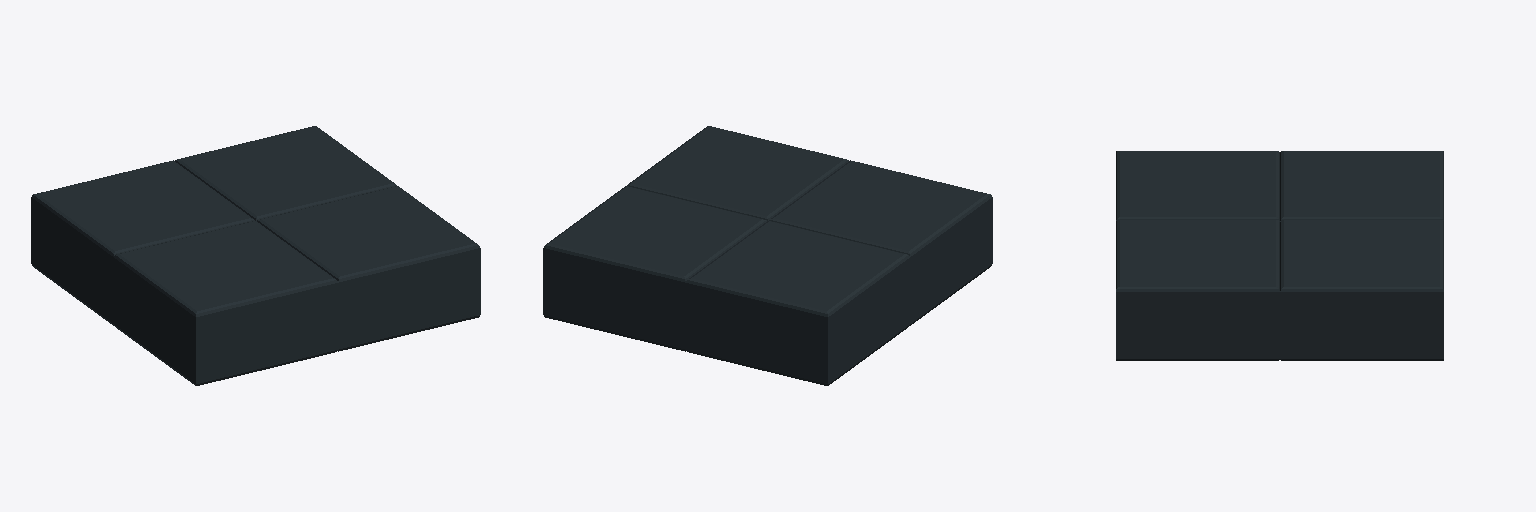
The model's file is tileBrickB_medium.obj.
3 views of the same model, side by side, from view 1: azimuth 30°, elevation 25°; view 2: azimuth 150°, elevation 25°; view 3: azimuth 270°, elevation 25° (orthographic).
Visible parts, largest first — view 1: tileBrickB_medium_Cube.3227; view 2: tileBrickB_medium_Cube.3227; view 3: tileBrickB_medium_Cube.3227.
Boxes of the visible parts, x1,y1,x2,y2 form: tileBrickB_medium_Cube.3227: [31, 126, 480, 385]; tileBrickB_medium_Cube.3227: [543, 126, 992, 385]; tileBrickB_medium_Cube.3227: [1116, 151, 1443, 360].
Size of the model in its own units: 4 by 1 by 4.